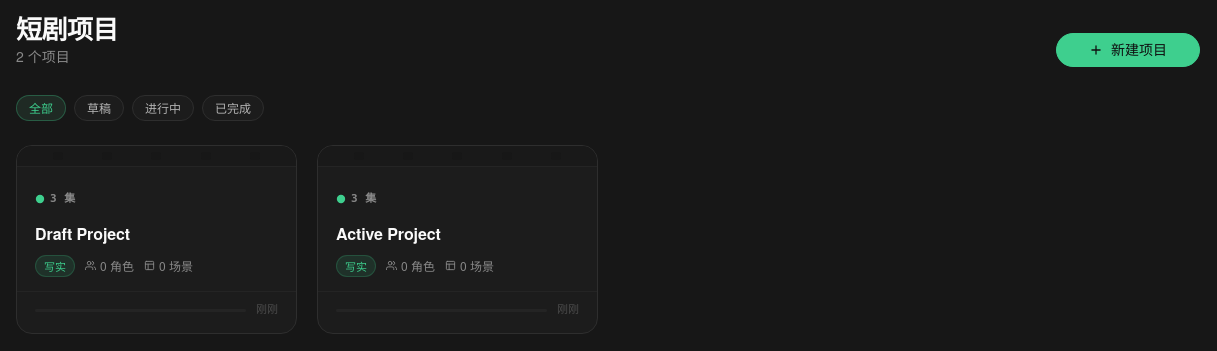
Test: DashboardPage — status filter › should filter on click
Check: the heading "Draft Project" is shown, box left=35, top=222, right=130, bottom=245
Check: the heading "Active Project" is shown, box left=336, top=222, right=441, bottom=245
Note: Click "进行中" (active) filter tab
Click the button "进行中" at (163, 108), box left=132, top=95, right=194, bottom=121
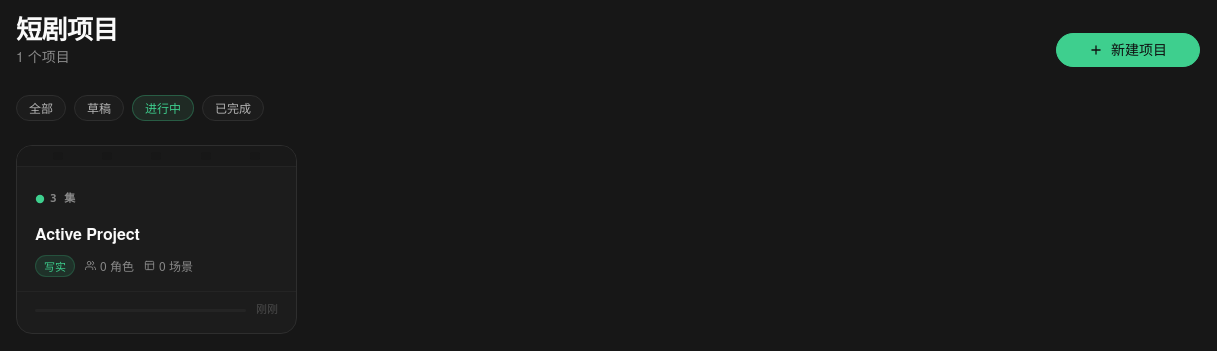
Check: the heading "Active Project" is shown, box left=35, top=222, right=140, bottom=245
Check: the heading "Draft Project" is gone
